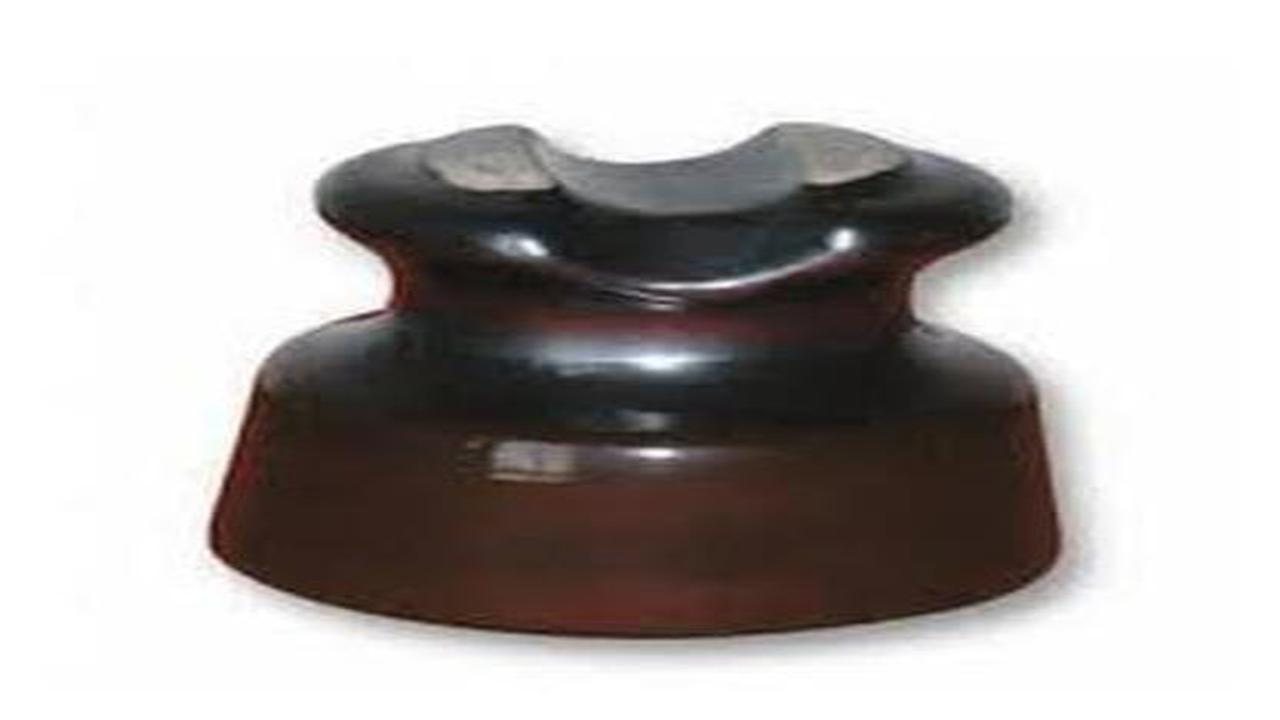insulator_pin: (188, 87, 1102, 641)
